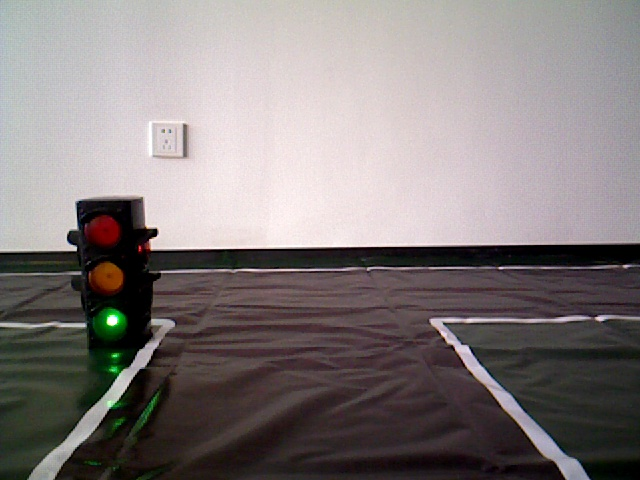green: (79, 203, 148, 339)
